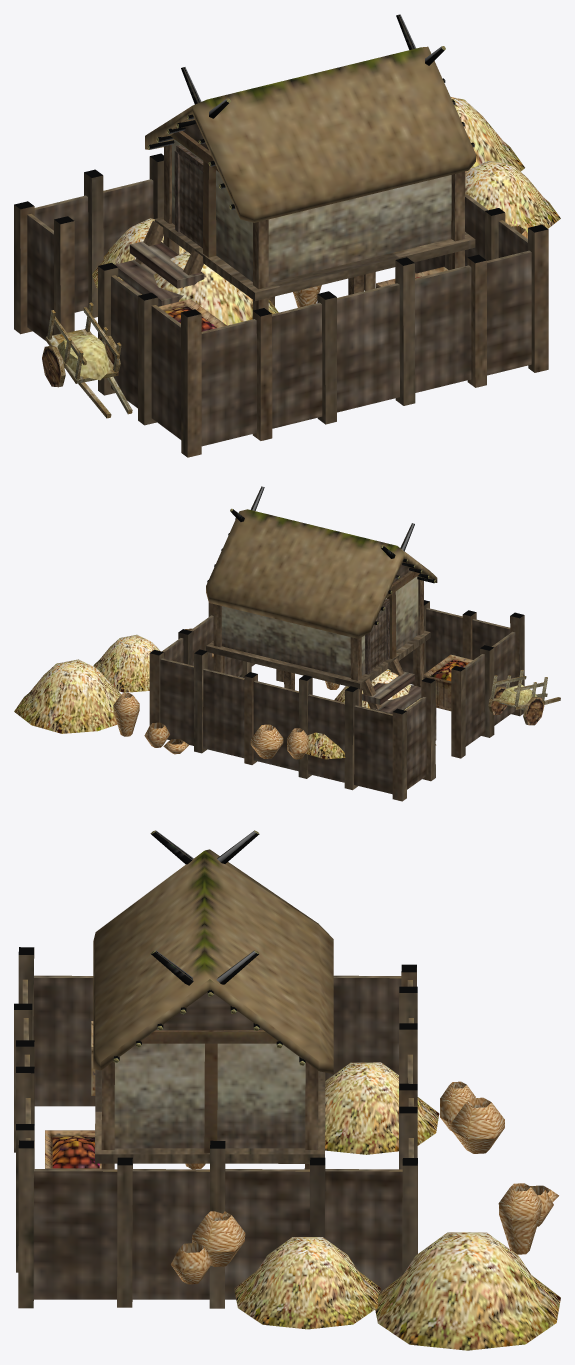
File: germ_farmstead.glb
3 renders of one model, top to bottom at view 1: azimuth 30°, elevation 25°; view 2: azimuth 150°, elevation 25°; view 3: azimuth 270°, elevation 25°, orthographic. The views are drawn at different scales.
Parts seen in each view (by area): view 1: germ_farmstead_part0, germ_farmstead_part1, germ_farmstead_part4, germ_farmstead_part3; view 2: germ_farmstead_part0, germ_farmstead_part1, germ_farmstead_part4, germ_farmstead_part3; view 3: germ_farmstead_part0, germ_farmstead_part1, germ_farmstead_part2.
Part boxes in pixels (x1,y1,x2,y2): germ_farmstead_part0: (14,14,548,457); germ_farmstead_part1: (92,97,560,325); germ_farmstead_part4: (42,302,132,418); germ_farmstead_part3: (158,299,226,331); germ_farmstead_part0: (149,486,524,801); germ_farmstead_part1: (14,628,421,759); germ_farmstead_part4: (488,670,560,725); germ_farmstead_part3: (423,654,472,711); germ_farmstead_part0: (14,830,417,1308); germ_farmstead_part1: (171,1062,560,1350); germ_farmstead_part2: (45,1130,101,1169).
Bounding box in the file's own units: 3.2 × 1.5 × 2.23.
Materials: 3 (3 with a texture image).
